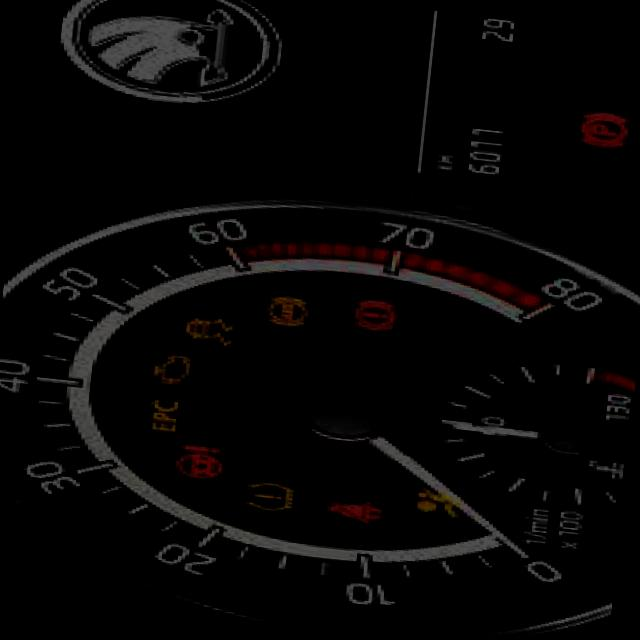kontrolka: (562, 101, 638, 159), (258, 288, 316, 336), (174, 311, 238, 353), (166, 439, 222, 486), (238, 476, 301, 516), (344, 294, 402, 335), (406, 484, 468, 522), (143, 350, 198, 390), (138, 394, 184, 440)
